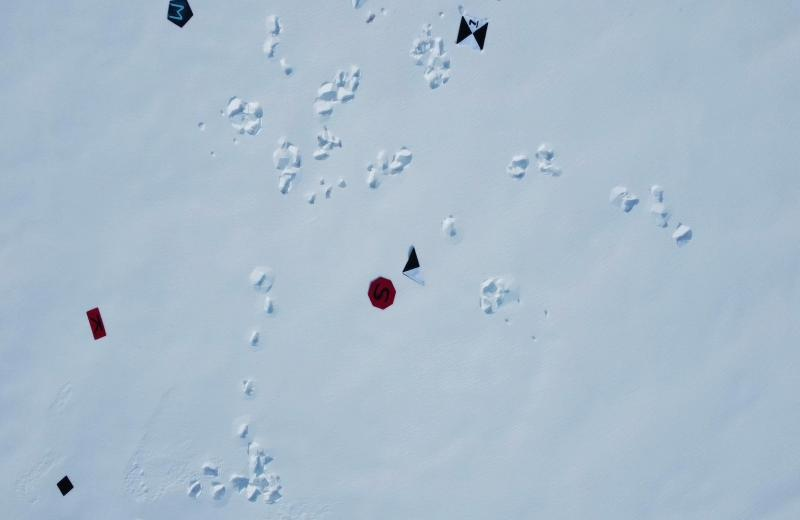Octagon: (367, 273, 398, 313)
Pentagon: (162, 0, 196, 31)
Rectangle: (82, 304, 110, 344)
Square: (54, 473, 76, 499)
